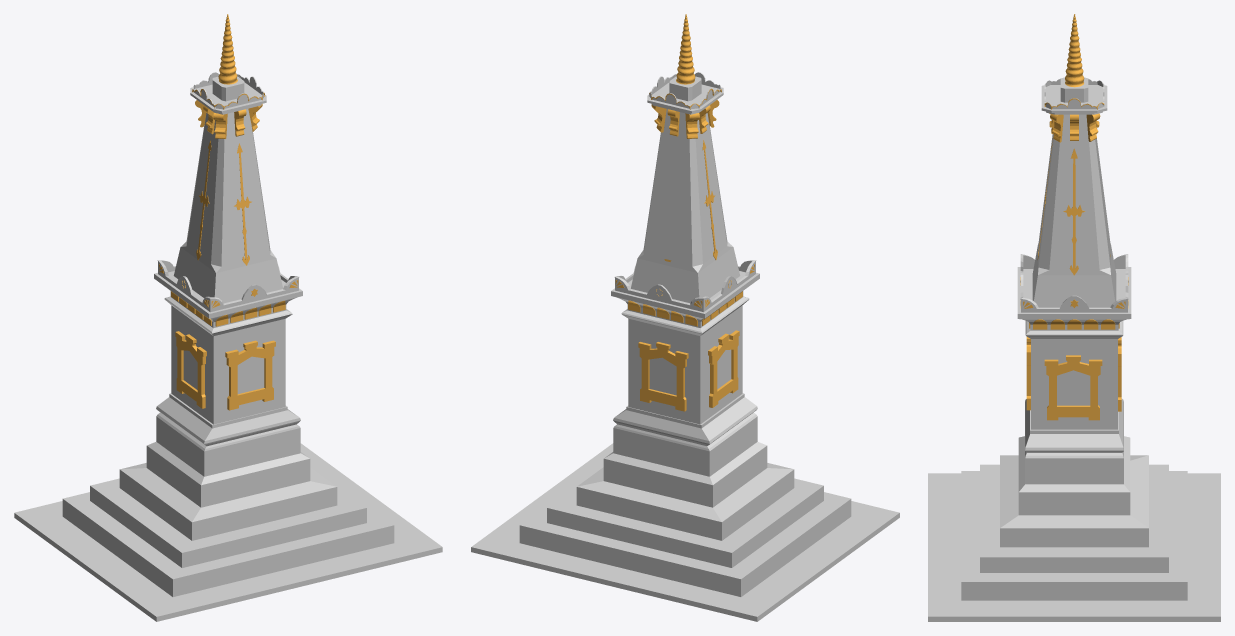
The model's file is TuguJogja.fbx.
3 renders of one model, left to right at view 1: azimuth 30°, elevation 25°; view 2: azimuth 150°, elevation 25°; view 3: azimuth 270°, elevation 25°, orthographic. The views are drawn at different scales.
Parts seen in each view (by area): view 1: Cube, Plane.000, Plane.003, Plane.006, Plane.004, Cube.002, Plane.007, Cube.001; view 2: Cube, Plane.001, Plane.003, Plane.006, Cube.002, Plane.007, Cube.001; view 3: Cube, Plane.002, Plane.006, Cube.001, Cube.002, Plane.004, Plane.007.
Boxes of the visible parts, left/top/right/bottom form: Cube: left=14, top=76, right=442, bottom=621; Plane.000: left=225, top=340, right=275, bottom=410; Plane.003: left=175, top=331, right=206, bottom=408; Plane.006: left=195, top=100, right=262, bottom=138; Plane.004: left=196, top=140, right=251, bottom=265; Cube.002: left=171, top=291, right=285, bottom=326; Plane.007: left=192, top=72, right=265, bottom=109; Cube.001: left=218, top=14, right=237, bottom=84; Cube: left=471, top=76, right=899, bottom=621; Plane.001: left=638, top=342, right=688, bottom=411; Plane.003: left=708, top=330, right=739, bottom=407; Plane.006: left=651, top=100, right=719, bottom=138; Cube.002: left=628, top=291, right=742, bottom=326; Plane.007: left=649, top=72, right=721, bottom=109; Cube.001: left=676, top=14, right=695, bottom=84; Cube: left=928, top=77, right=1220, bottom=621; Plane.002: left=1044, top=355, right=1102, bottom=420; Plane.006: left=1049, top=113, right=1100, bottom=142; Cube.001: left=1065, top=14, right=1084, bottom=87; Cube.002: left=1029, top=319, right=1119, bottom=329; Plane.004: left=1037, top=142, right=1110, bottom=275; Plane.007: left=1044, top=78, right=1104, bottom=109.
Bounding box in the file's own units: 341 × 593 × 294.
